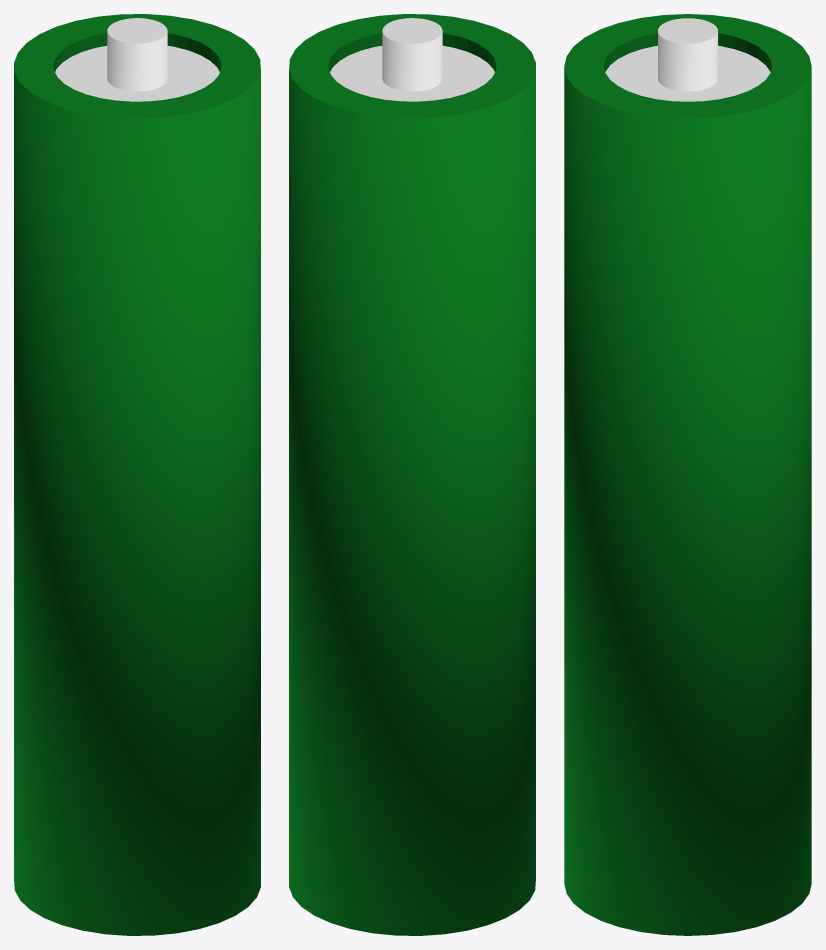
File: Battery_Mesh.fbx
3 renders of one model, left to right at view 1: azimuth 30°, elevation 25°; view 2: azimuth 150°, elevation 25°; view 3: azimuth 270°, elevation 25°, orthographic.
Parts seen in each view (by area): view 1: 柱体; view 2: 柱体; view 3: 柱体.
Part boxes in pixels (left/top/right/bottom): 柱体: left=14, top=14, right=260, bottom=935; 柱体: left=289, top=14, right=535, bottom=935; 柱体: left=564, top=14, right=811, bottom=935.
Bounding box in the file's own units: 120 × 458 × 120.
